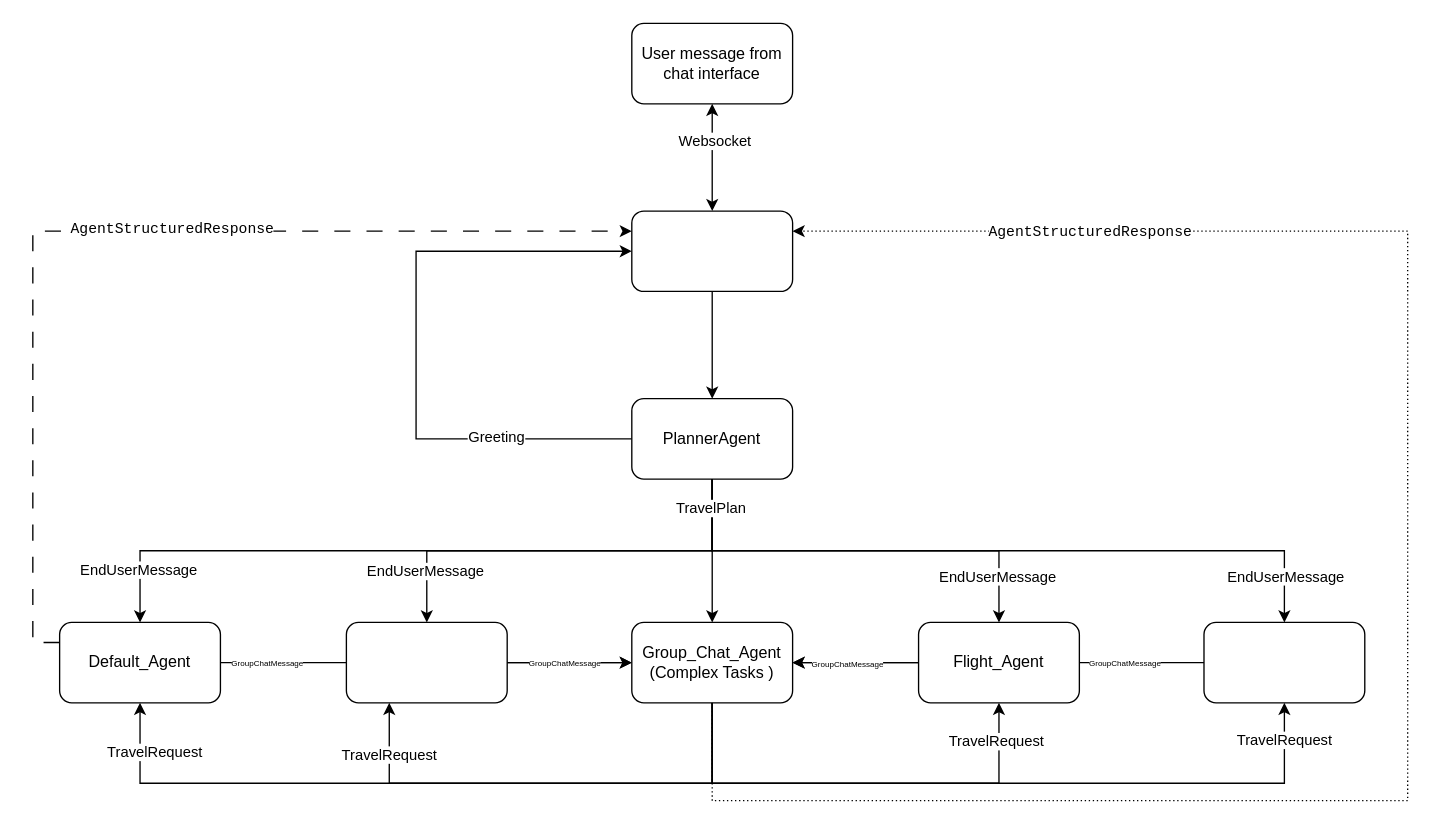
Image size: 1442x835. Some labels were removed from this diagram. Here are the shapes that lost their labels. From the top down, the centre of each, then its label:
the point at 711,250: UserProxyAgent
the point at 426,662: Destination_Agent
the point at 1284,662: Car_Agent
